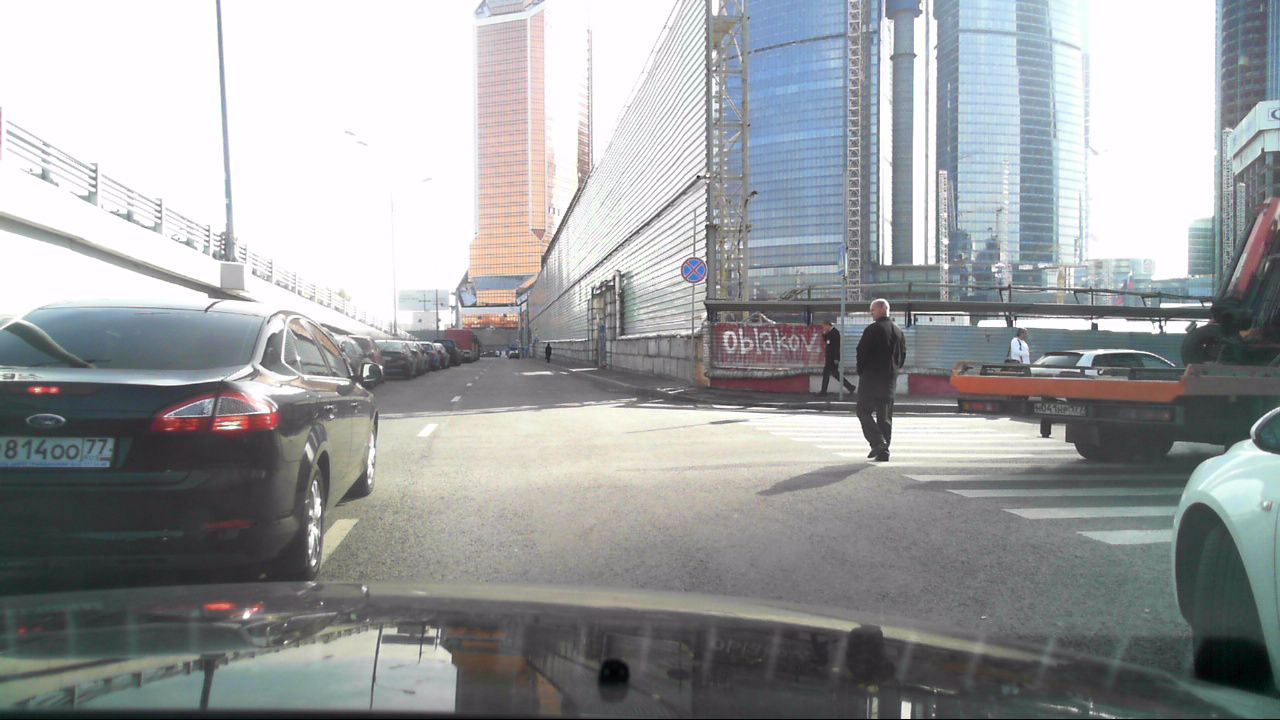No Parking: (681, 255, 709, 284)
